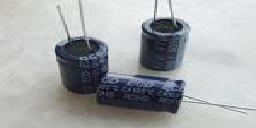Electrolytic-Capacitor: (97, 71, 256, 125), (53, 1, 109, 98), (140, 16, 192, 73)
